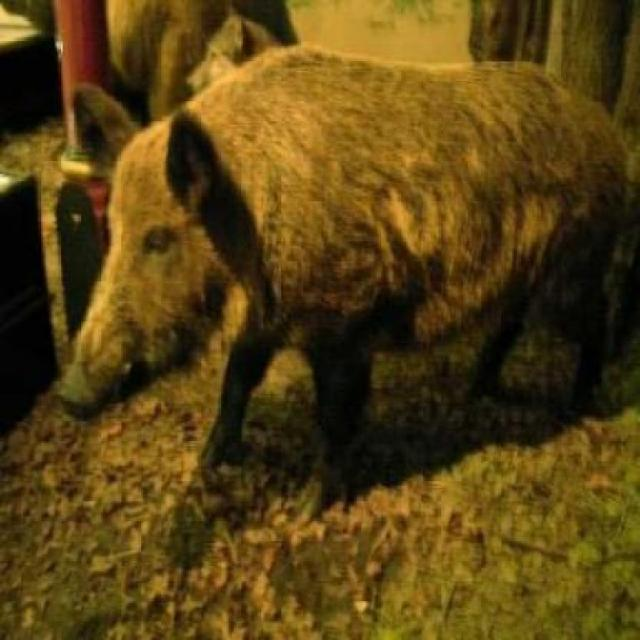pig: (33, 0, 638, 428)
